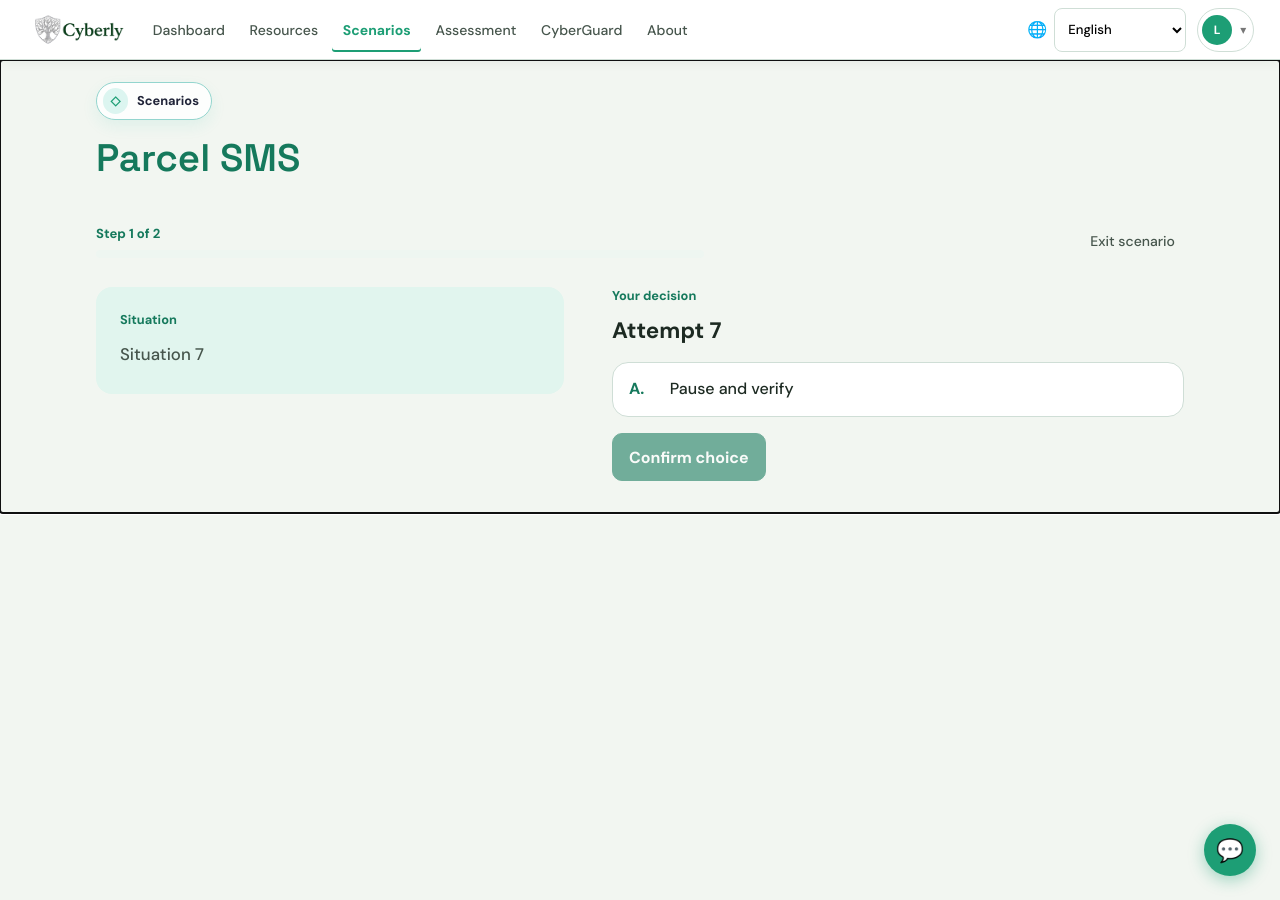
Test: I03 old pending save cannot steal focus after replacement identity boundary
Expected: the text "Situation 7" is shown, [120,343,204,365]
Click the button "A. Pause and verify".
click(732, 388)  # box [612,362,1184,417]
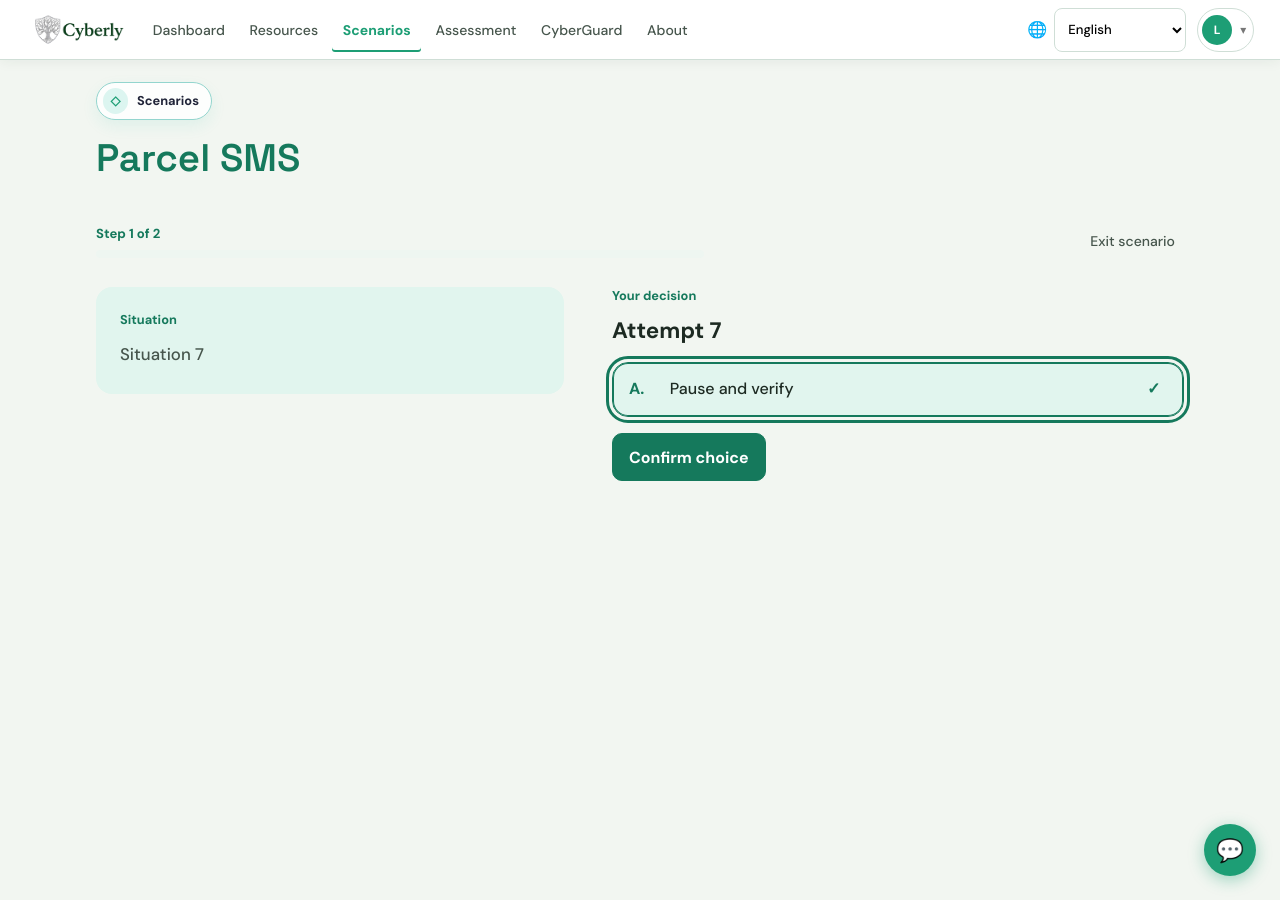
Click the button "Confirm choice".
click(689, 457)  # box [612,433,766,481]
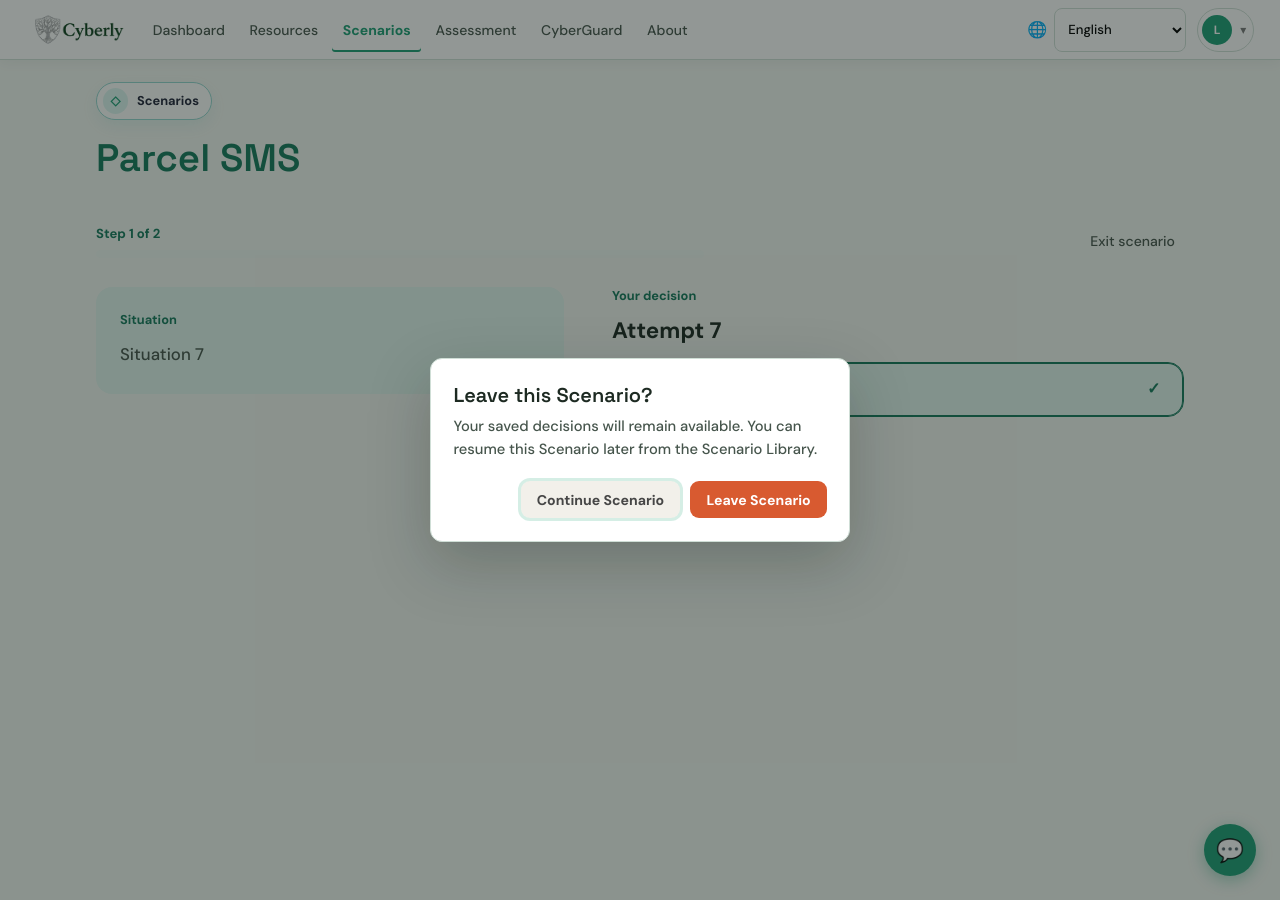
Click the button "Leave Scenario".
click(759, 500)  # box [690,481,827,518]
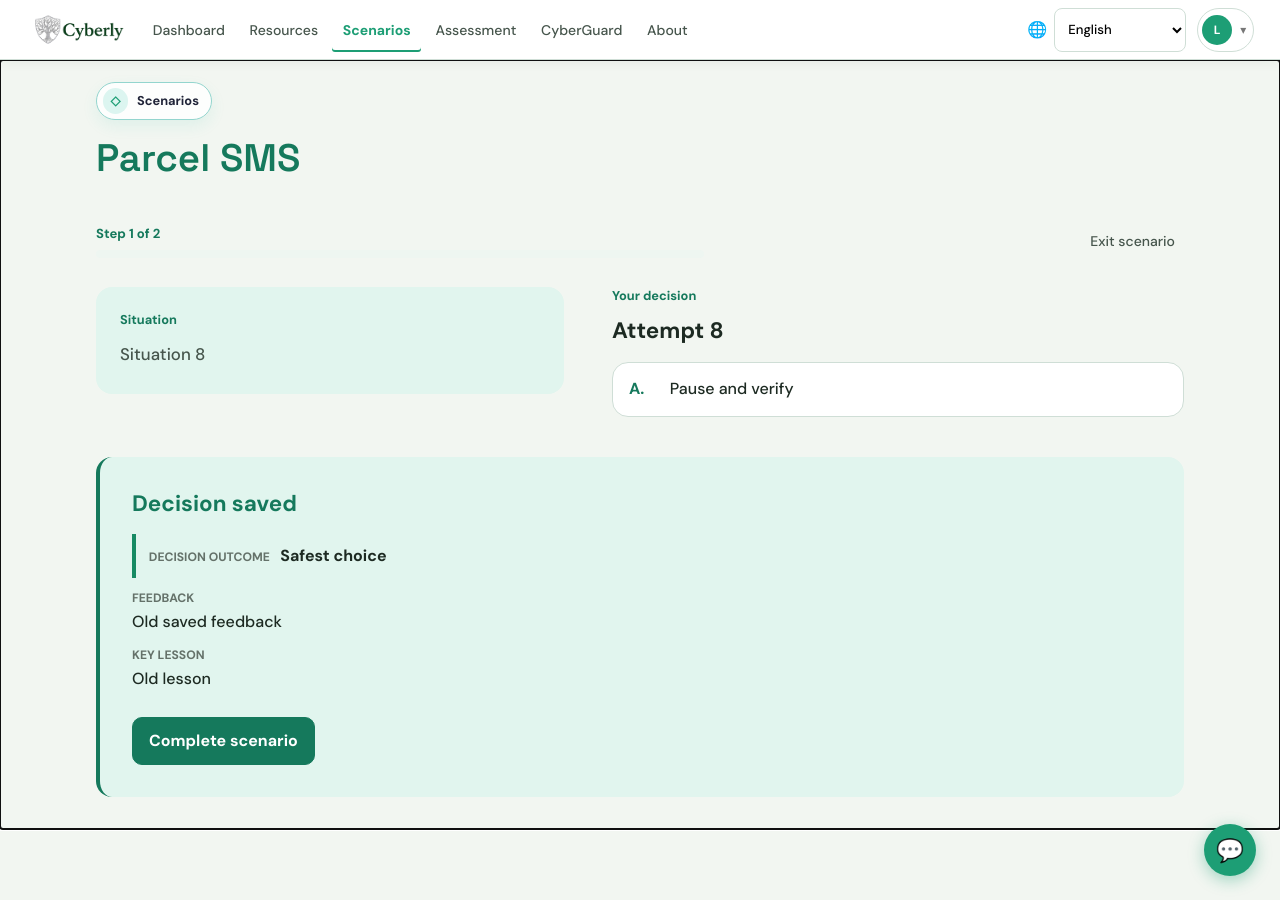
Now the text "Situation 8" is shown, box [120,343,205,365]
